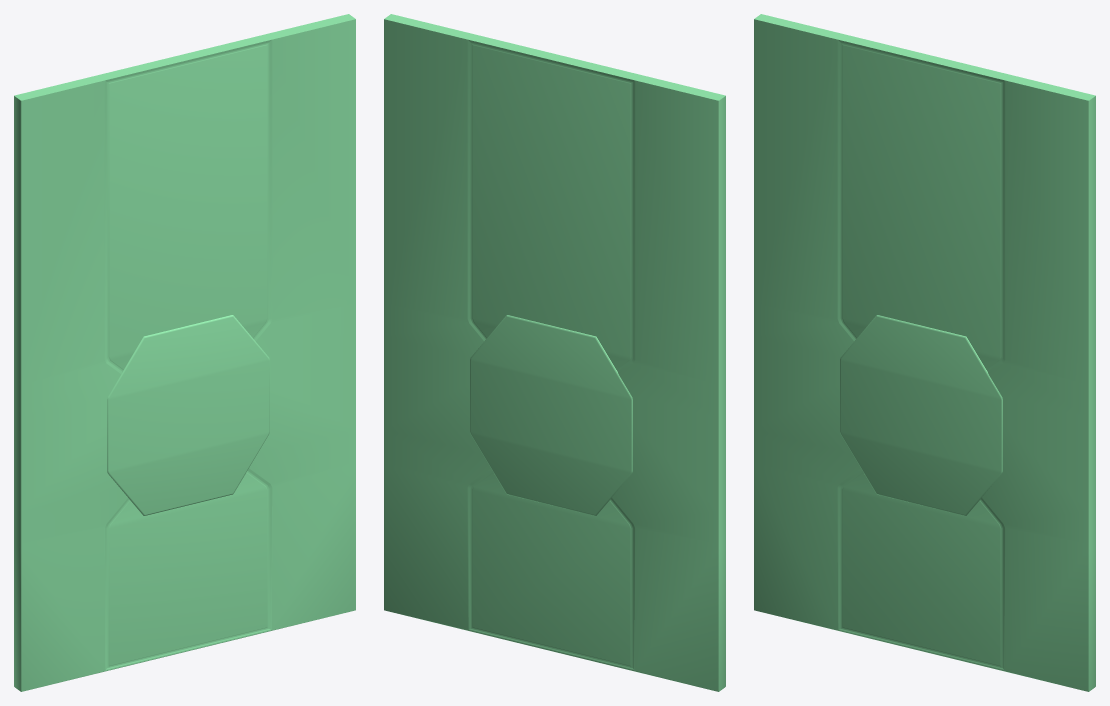
Rendered from Door01_Door.FBX.
3 views of the same model, side by side, from view 1: azimuth 30°, elevation 25°; view 2: azimuth 150°, elevation 25°; view 3: azimuth 330°, elevation 25° (orthographic).
Visible parts, largest first — view 1: SM_Door01_Door; view 2: SM_Door01_Door; view 3: SM_Door01_Door.
Part boxes in pixels (bbox=[...]): SM_Door01_Door: bbox=[14, 14, 355, 691]; SM_Door01_Door: bbox=[384, 14, 725, 691]; SM_Door01_Door: bbox=[754, 14, 1095, 691].
Size of the model in its own units: 159 by 268 by 6.51.
